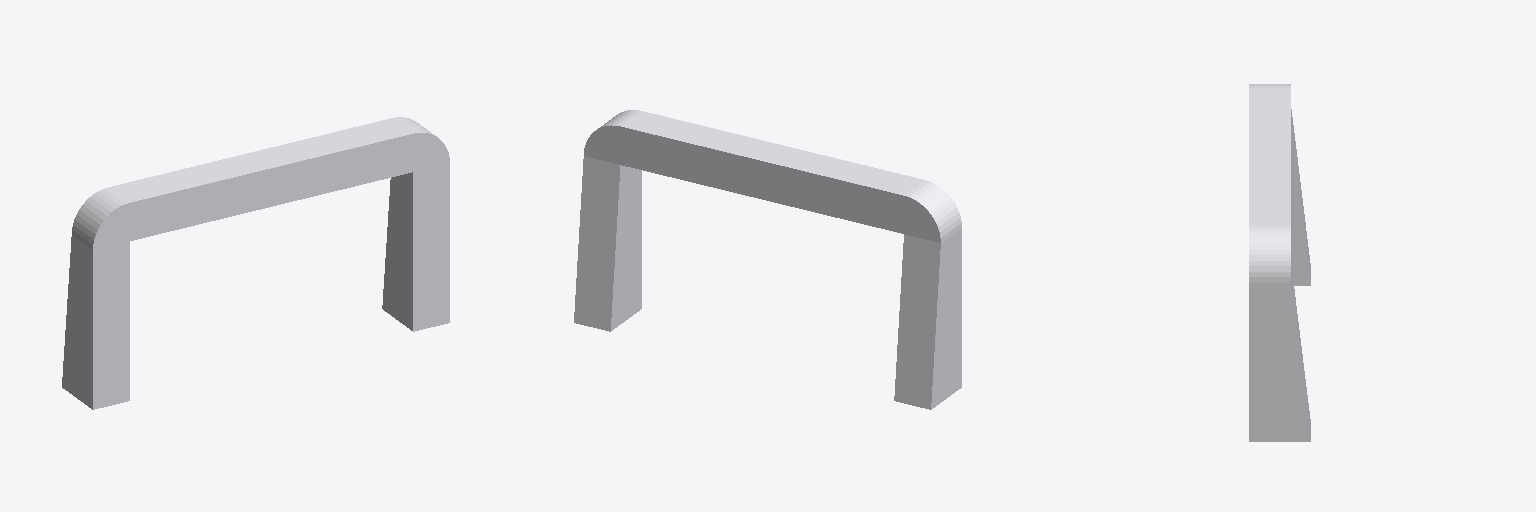
Rendered from overhead.obj.
The picture shows the model from 3 angles: view 1: azimuth 30°, elevation 25°; view 2: azimuth 150°, elevation 25°; view 3: azimuth 270°, elevation 25°; orthographic projection.
Parts seen in each view (by area): view 1: overhead; view 2: overhead; view 3: overhead.
Boxes of the visible parts, box(x1,y1,x2,y2) form: overhead: box(62, 117, 449, 409); overhead: box(574, 110, 961, 409); overhead: box(1249, 84, 1310, 441).
Bounding box in the file's own units: 1.26 × 0.6682 × 0.19.